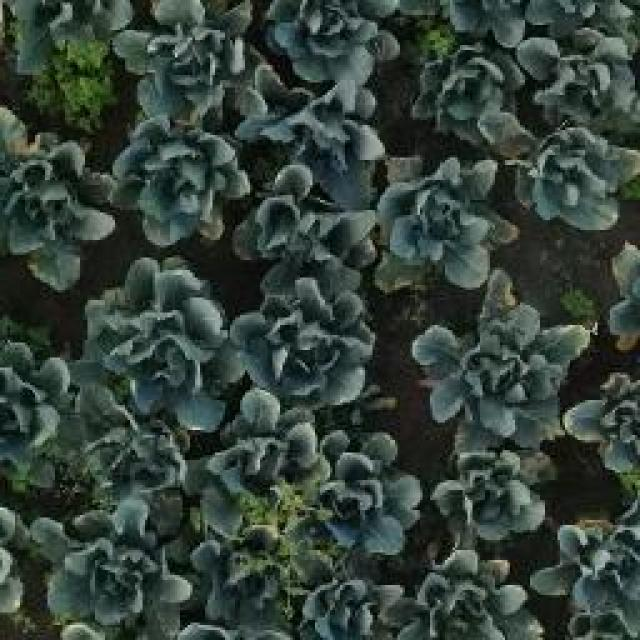cabbage: (416, 295, 590, 434), (35, 512, 197, 640), (186, 387, 327, 529), (0, 103, 113, 276), (86, 257, 226, 390), (232, 270, 367, 405), (253, 63, 385, 195), (112, 0, 255, 121), (381, 156, 507, 287), (116, 118, 247, 244), (307, 429, 426, 558), (73, 392, 194, 512), (530, 515, 640, 640), (508, 115, 620, 233), (520, 0, 637, 112), (401, 549, 544, 640), (0, 334, 82, 482), (431, 436, 545, 540), (270, 0, 407, 81), (194, 524, 296, 631), (253, 181, 377, 266), (412, 43, 521, 136), (563, 368, 640, 482), (296, 574, 414, 640)
